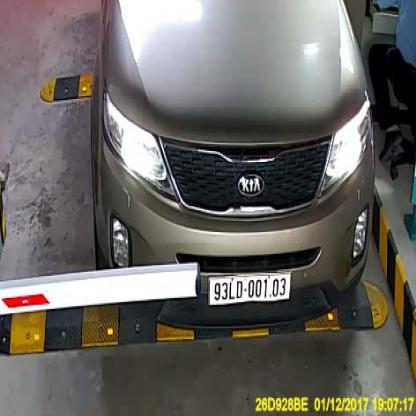biensoxe: (209, 271, 292, 308)
